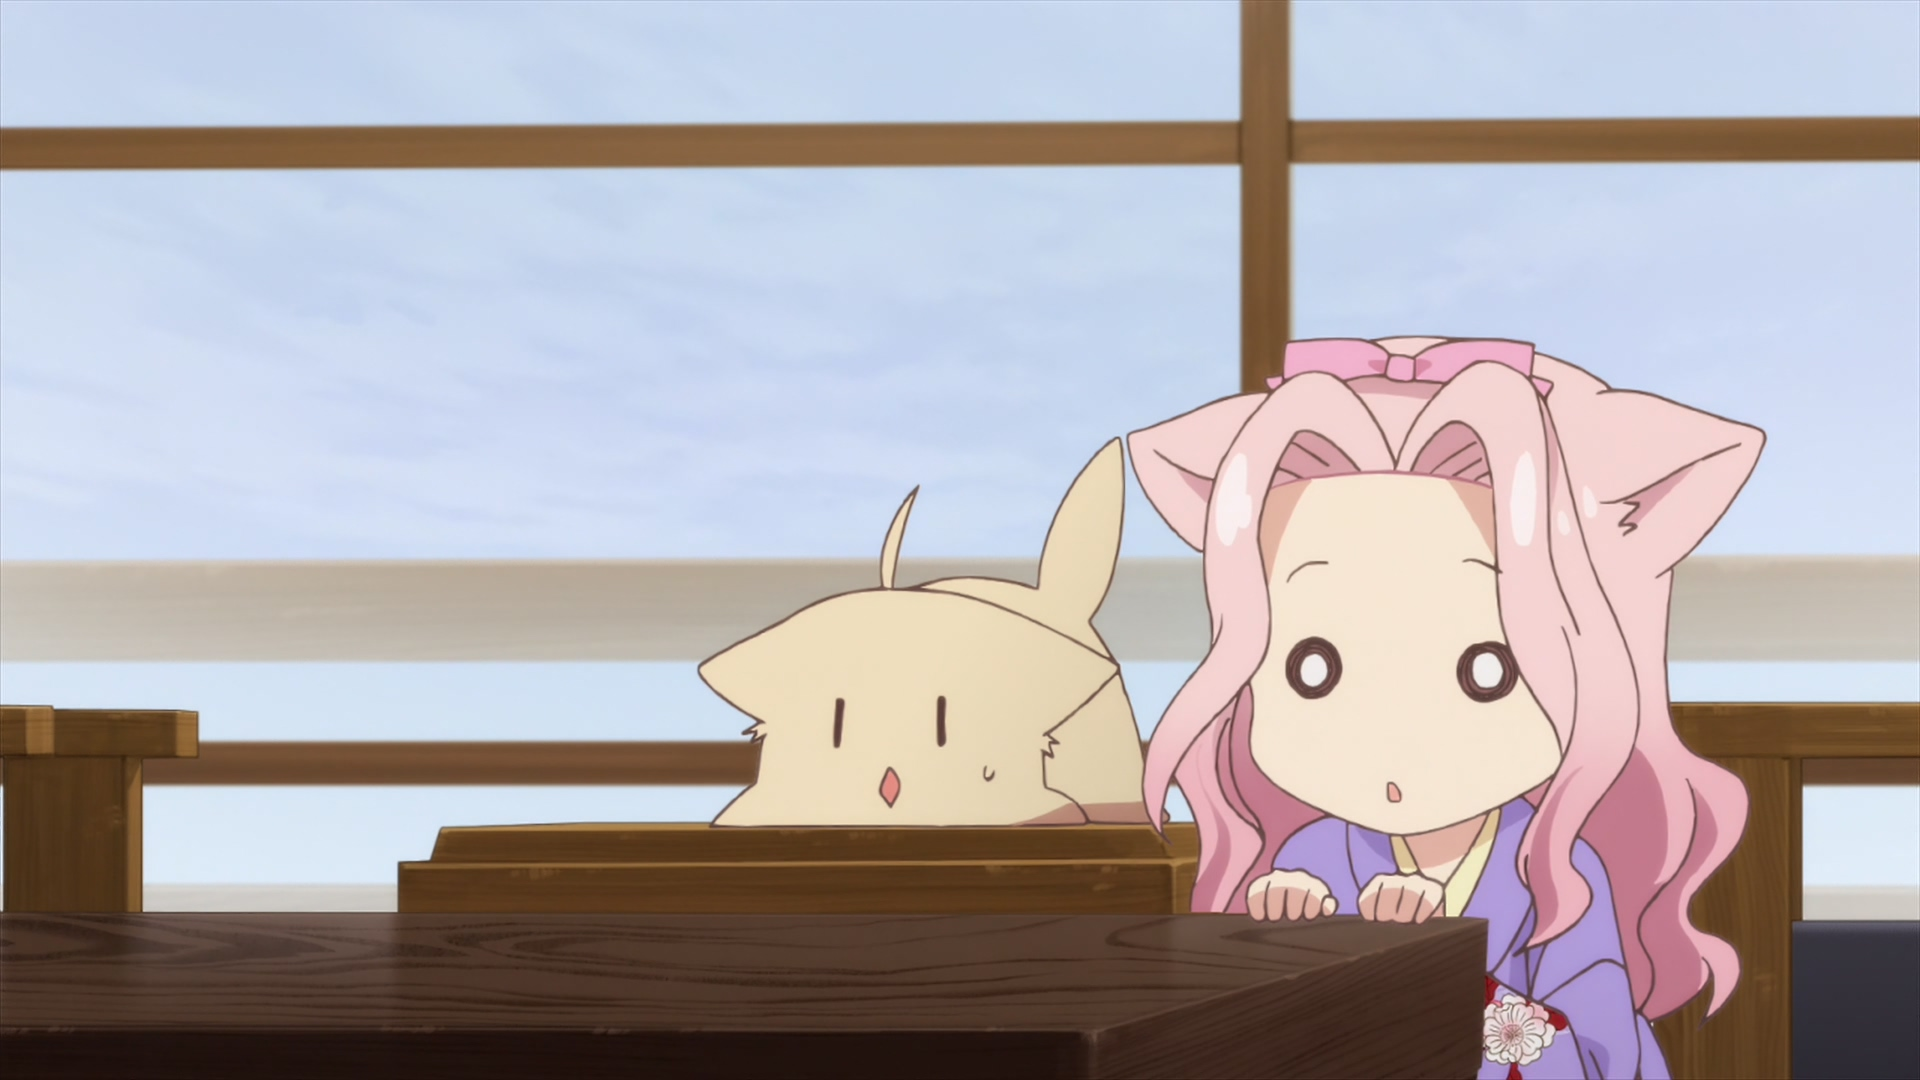柚: (698, 436, 1171, 824)
莲: (1129, 335, 1766, 1080)
